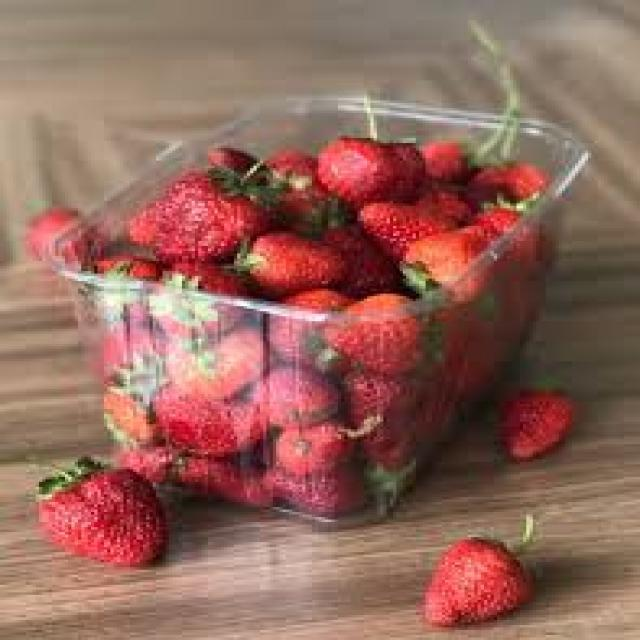strawberries: (58, 63, 590, 544)
